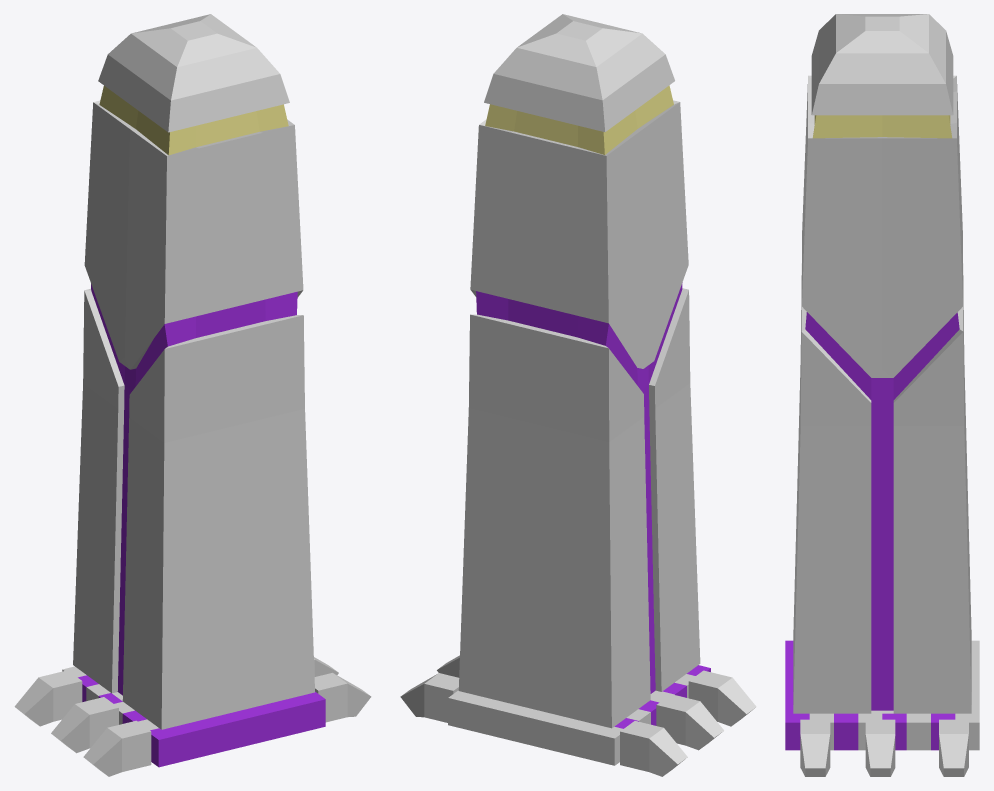
File: Tower1.glb
3 views of the same model, side by side, from view 1: azimuth 30°, elevation 25°; view 2: azimuth 150°, elevation 25°; view 3: azimuth 270°, elevation 25° (orthographic).
Visible parts, largest first — view 1: Cube; view 2: Cube; view 3: Cube.
Part boxes in pixels (x1,y1,x2,y2): Cube: [14, 14, 371, 776]; Cube: [400, 14, 756, 776]; Cube: [785, 14, 979, 776].
Size of the model in its own units: 1.97 by 4.66 by 1.18.
